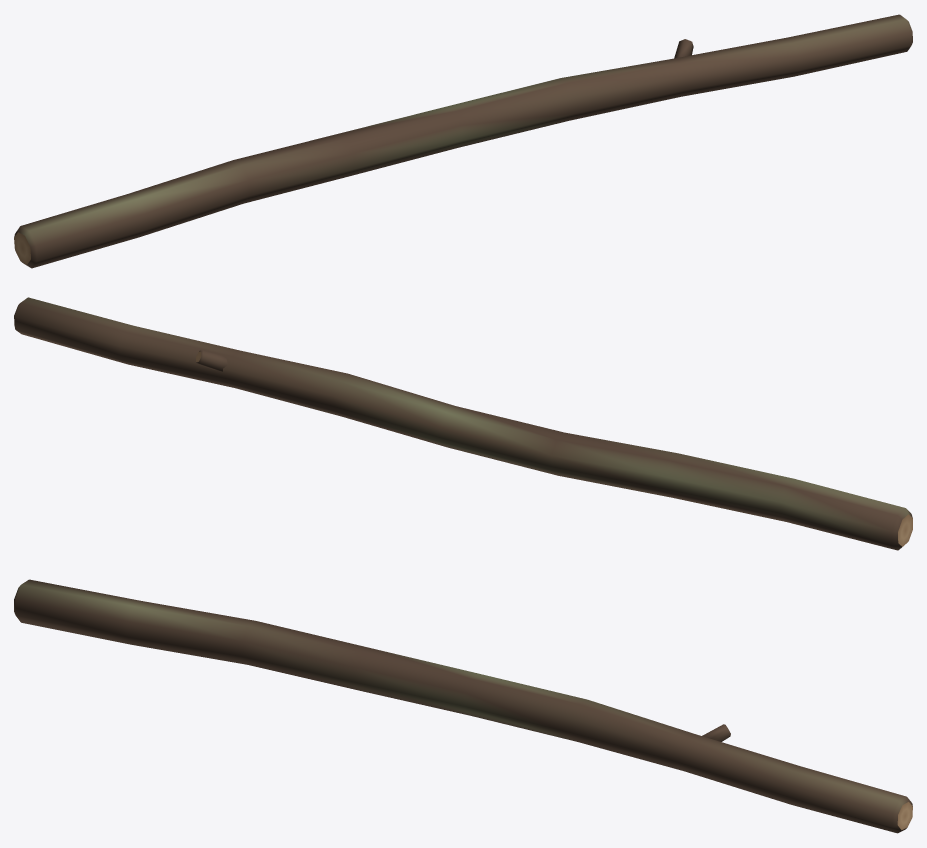
Rendered from stick.glb.
3 views of the same model, one above another, from view 1: azimuth 30°, elevation 25°; view 2: azimuth 150°, elevation 25°; view 3: azimuth 330°, elevation 25° (orthographic).
Visible parts, largest first — view 1: stick; view 2: stick; view 3: stick.
Boxes of the visible parts, x1,y1,x2,y2 form: stick: (14, 14, 912, 268); stick: (14, 297, 912, 550); stick: (14, 579, 912, 833).
Size of the model in its own units: 0.6054 by 0.0304 by 0.0404.
